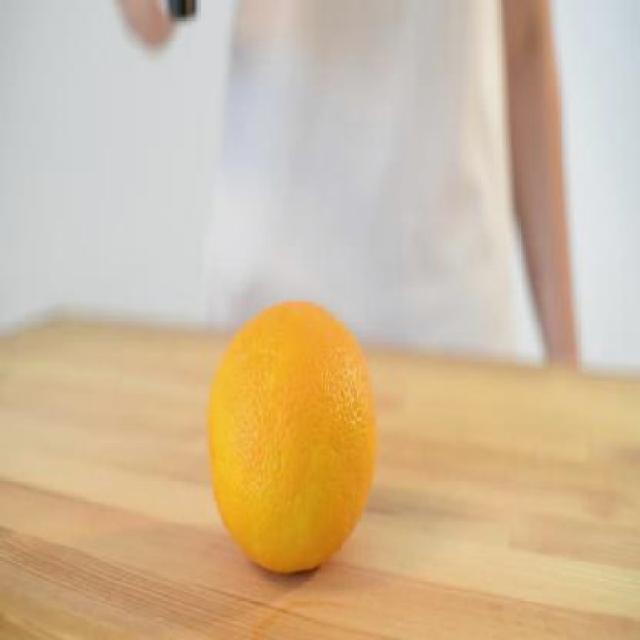Jeruk Sudah Matang: (206, 298, 379, 572)
